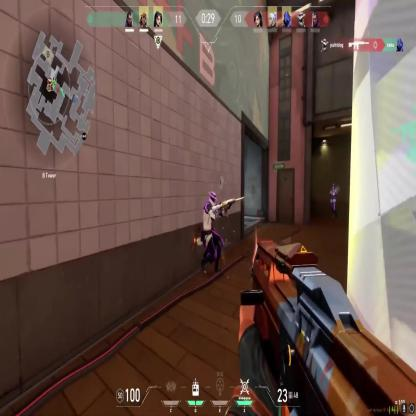enemy: (201, 191, 224, 276), (329, 183, 336, 218)
enemy_head: (208, 191, 217, 208), (332, 184, 334, 190)
